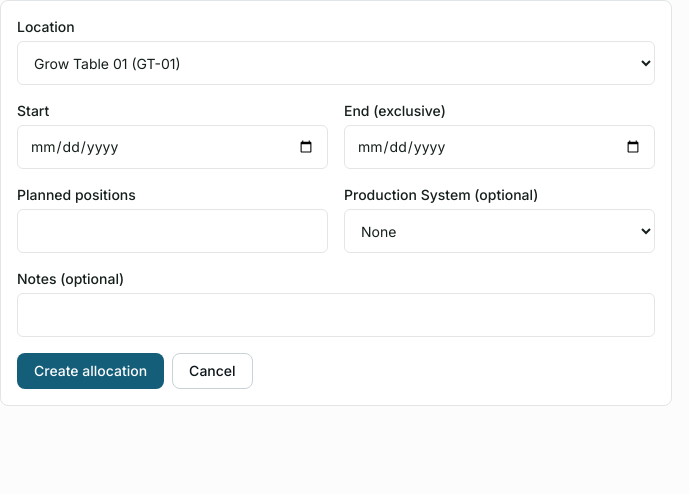
Scenario: CapacityAllocationForm › PILOT-PLAN-001B section 12: pre-submit preview shows Configured/Already planned/Requested/Remaining from the authoritative capacity-summary read
The width and height of the screenshot is (689, 494).
Step 1. Type "2026-10-01" into the date field labelled "Start" → point(172, 147), box [17,125,328,169]
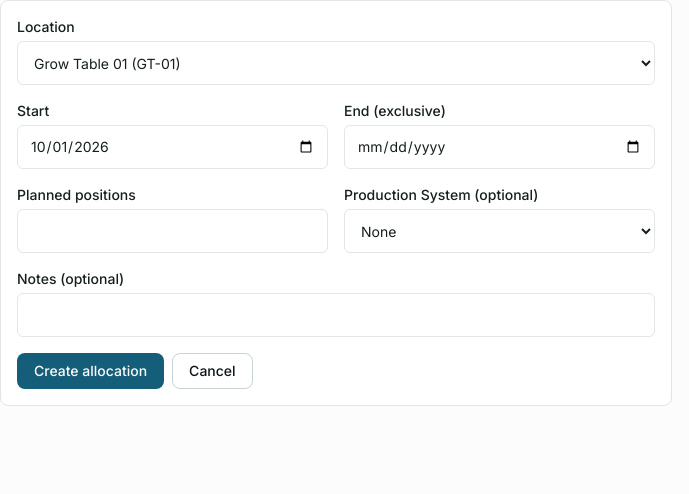
Step 2. Type "2026-10-08" into the date field labelled "End (exclusive)" → point(500, 147), box [344,125,655,169]
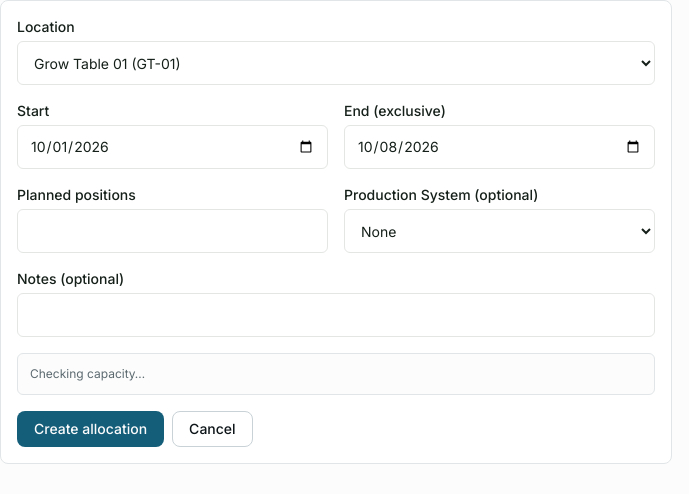
Step 3. Type "150" into the field labelled "Planned positions" → point(172, 231), box [17,209,328,253]
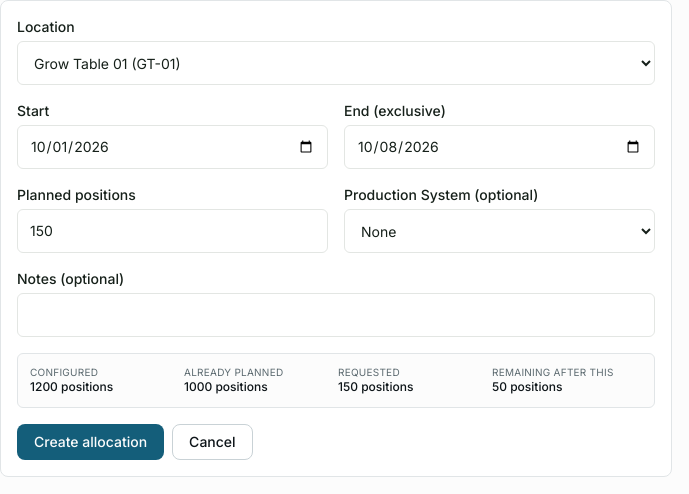
Result: the text "1200 positions" is shown at [30,379,113,394]
Result: the text "1000 positions" is shown at [184,379,268,394]
Result: the text "150 positions" is shown at [338,379,413,394]
